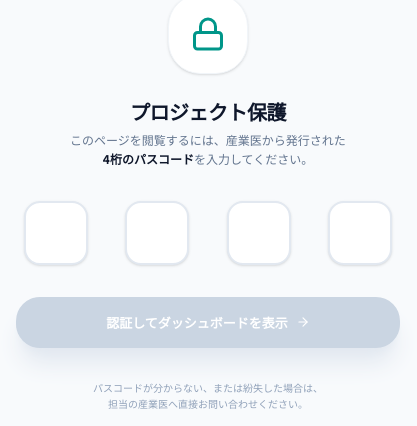
Scenario: ProjectPasscodeGate › 4桁入力後にボタンが有効化される
Type "1" into the field named "パスコード 1桁目" at (56, 232), box x1=24 y1=200 x2=88 y2=264
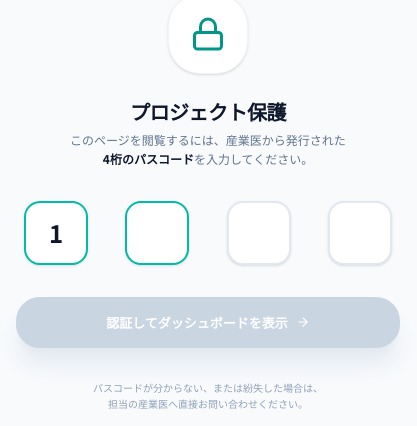
Type "2" into the field named "パスコード 2桁目" at (157, 232), box x1=125 y1=200 x2=189 y2=264
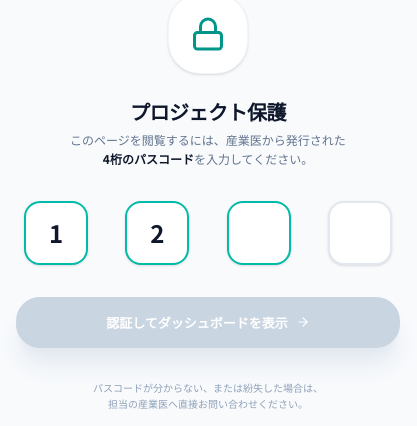
Type "3" into the field named "パスコード 3桁目" at (259, 232), box x1=227 y1=200 x2=291 y2=264
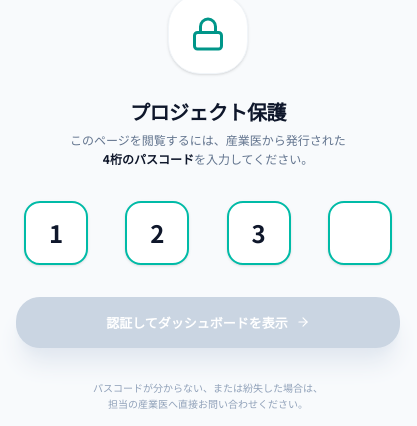
Type "4" into the field named "パスコード 4桁目" at (360, 232), box x1=328 y1=200 x2=392 y2=264
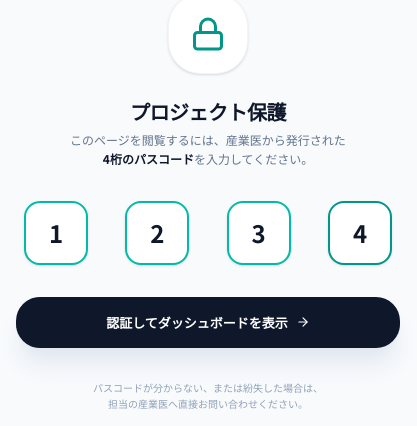
Check: the button "認証してダッシュボードを表示" is enabled, box x1=16 y1=296 x2=400 y2=348
